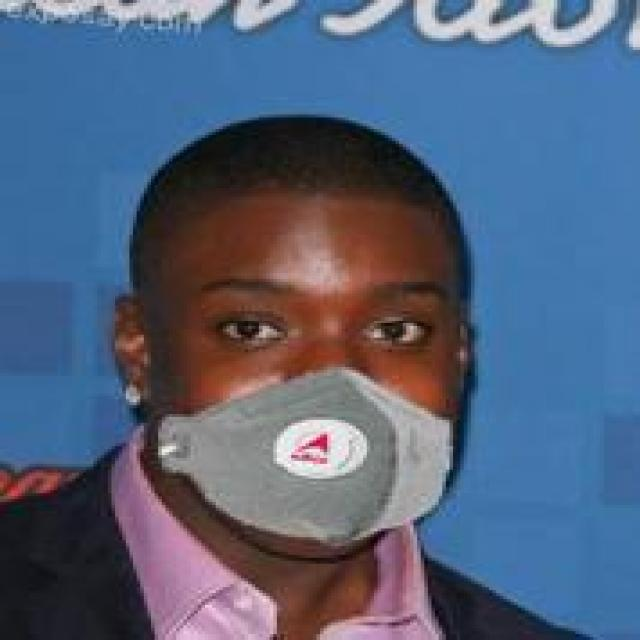mask: (111, 112, 507, 558)
